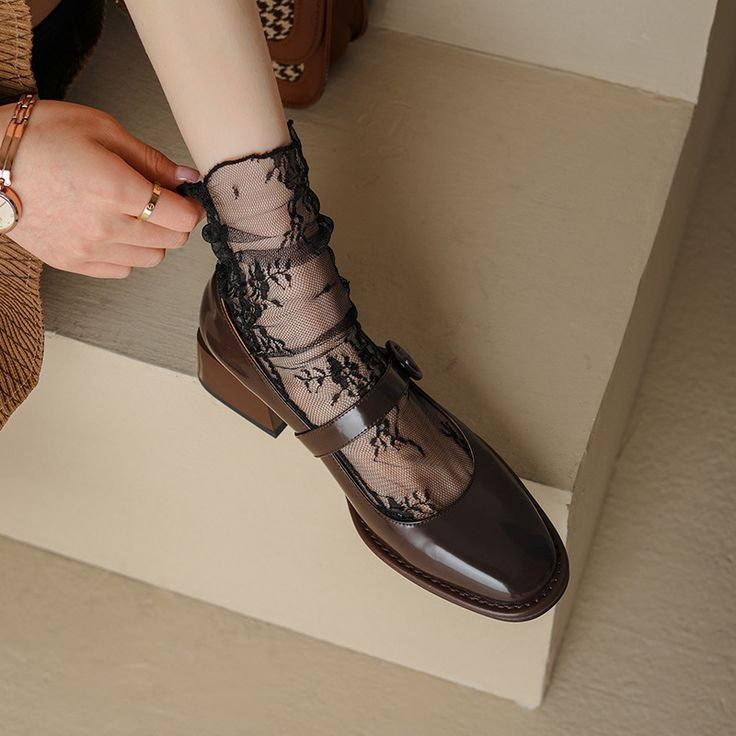cuero: (197, 263, 571, 622)
